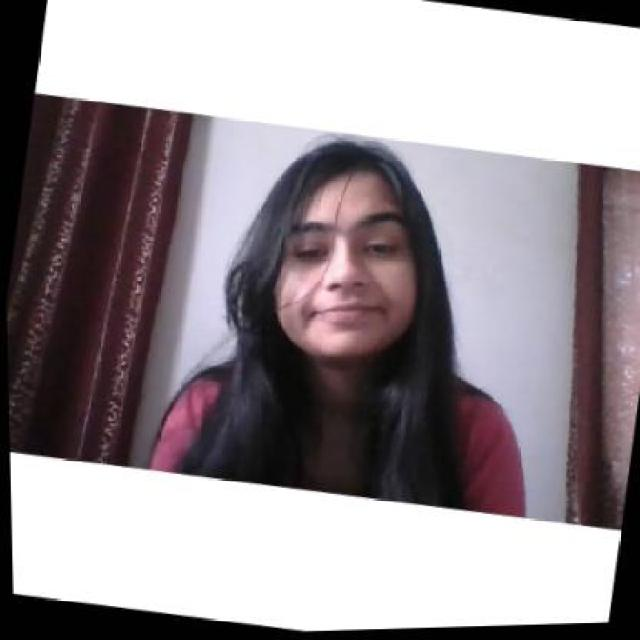attentif: (263, 135, 437, 370)
